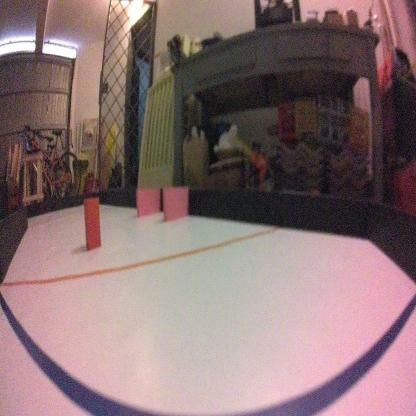magenta: (162, 183, 188, 227), (134, 184, 160, 222)
red: (82, 194, 100, 244)
